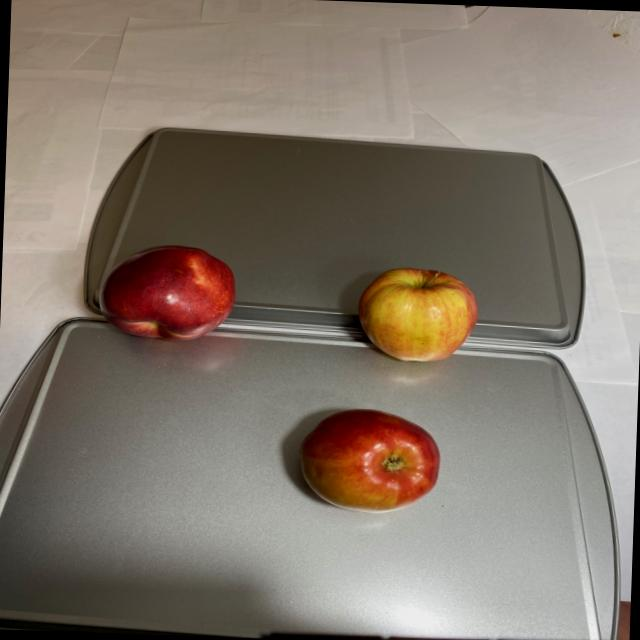apple: (287, 263, 482, 516), (94, 240, 243, 352)
